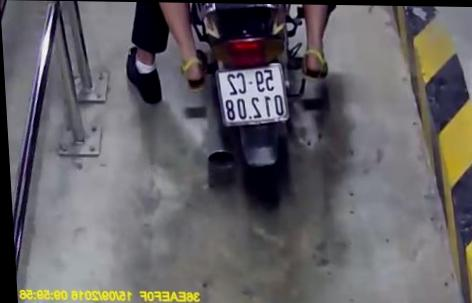License_Plate: (214, 61, 294, 132)
